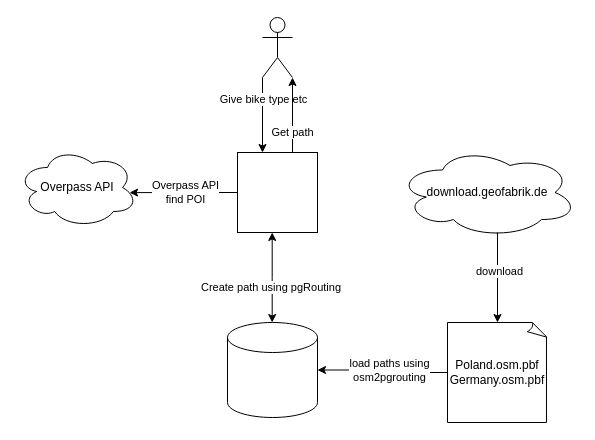
The diagram is 595 pixels wide and 440 high, and some of its shapes have lost their labels. Here are the shapes that lost their labels. From the top down, the centre of each, then its label:
At (277,192): "Python app".
At (272,370): "DB".
